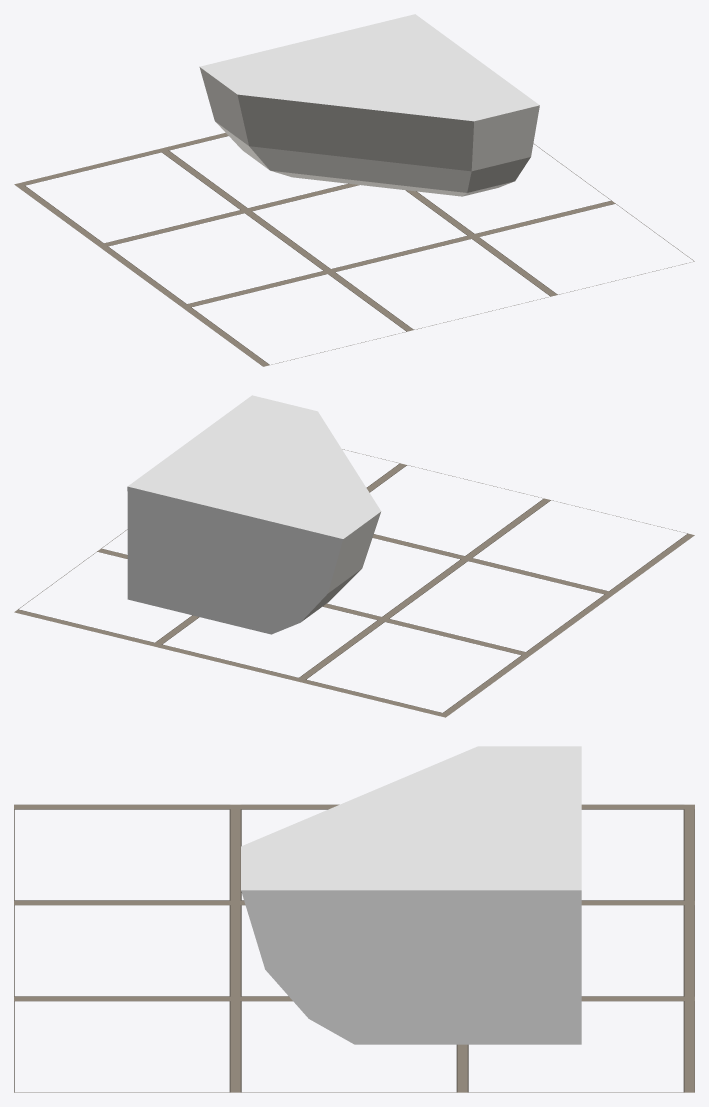
File: Basic_Curve_Outer_2x2_Wide_Under.glb
3 views of the same model, one above another, from view 1: azimuth 30°, elevation 25°; view 2: azimuth 150°, elevation 25°; view 3: azimuth 270°, elevation 25° (orthographic). The views are drawn at different scales.
Parts seen in each view (by area): view 1: Basic_Curve_Outer_2x2_Wide_Under, Floor; view 2: Basic_Curve_Outer_2x2_Wide_Under, Floor; view 3: Basic_Curve_Outer_2x2_Wide_Under, Floor.
Boxes of the visible parts, <box> form: Basic_Curve_Outer_2x2_Wide_Under: <box>199,14,539,196</box>; Floor: <box>14,132,694,366</box>; Basic_Curve_Outer_2x2_Wide_Under: <box>127,395,381,634</box>; Floor: <box>14,449,694,717</box>; Basic_Curve_Outer_2x2_Wide_Under: <box>241,746,581,1044</box>; Floor: <box>14,804,694,1092</box>.
Bounding box in the file's own units: 300 × 75 × 300.
Materials: 3 (1 with a texture image).
